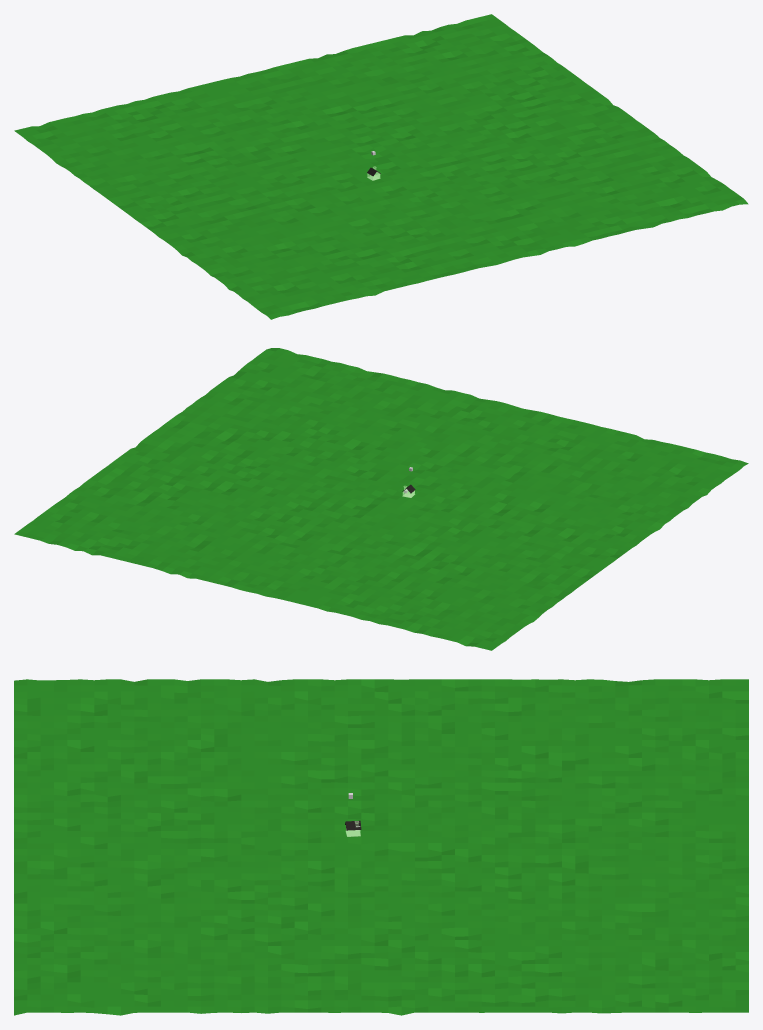
The model's file is forest_terrain.glb.
3 renders of one model, top to bottom at view 1: azimuth 30°, elevation 25°; view 2: azimuth 150°, elevation 25°; view 3: azimuth 270°, elevation 25°, orthographic. The views are drawn at different scales.
Parts seen in each view (by area): view 1: Cube.005; view 2: Cube.005; view 3: Cube.005.
Part boxes in pixels (x1=…): Cube.005: x1=14, y1=14, x2=748, y2=319; Cube.005: x1=14, y1=348, x2=748, y2=650; Cube.005: x1=14, y1=679, x2=748, y2=1015.
Bounding box in the file's own units: 360 × 21.1 × 336.
Materials: 4 (1 with a texture image).
